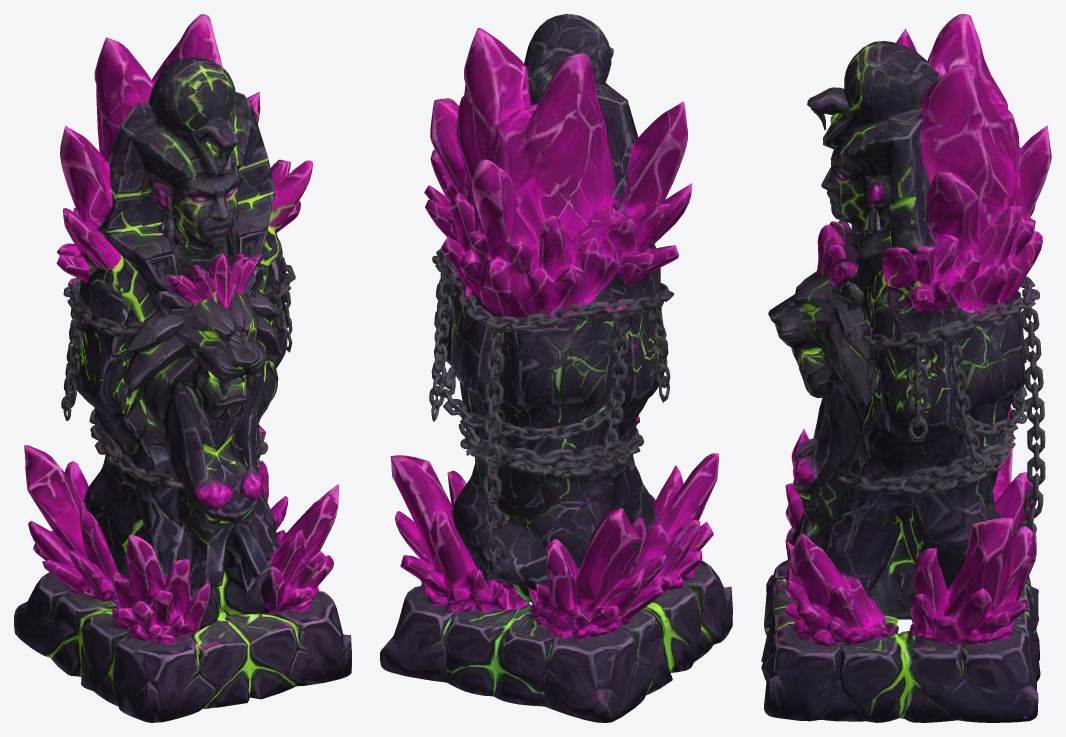
Rendered from amethyst.glb.
3 views of the same model, side by side, from view 1: azimuth 30°, elevation 25°; view 2: azimuth 150°, elevation 25°; view 3: azimuth 270°, elevation 25° (orthographic). The views are drawn at different scales.
Parts seen in each view (by area): view 1: Mesh_0; view 2: Mesh_0; view 3: Mesh_0.
Part boxes in pixels (x1,y1,x2,y2): Mesh_0: [14, 14, 351, 722]; Mesh_0: [380, 14, 732, 722]; Mesh_0: [761, 14, 1051, 722].
Bounding box in the file's own units: 0.8169 × 1.9 × 0.7987.
Materials: 1 (1 with a texture image).
